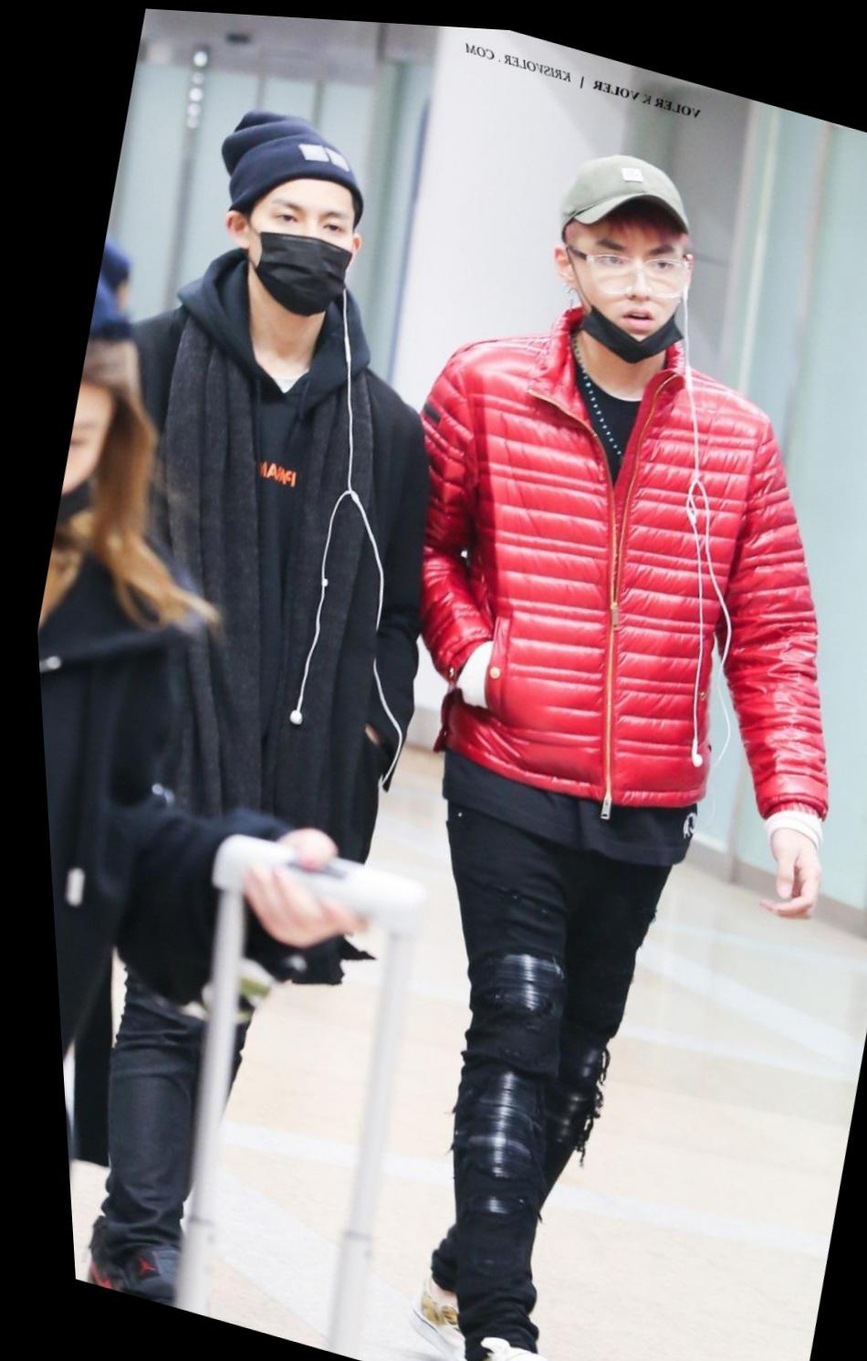OK: (238, 175, 363, 322)
WRONG: (555, 196, 696, 356)
